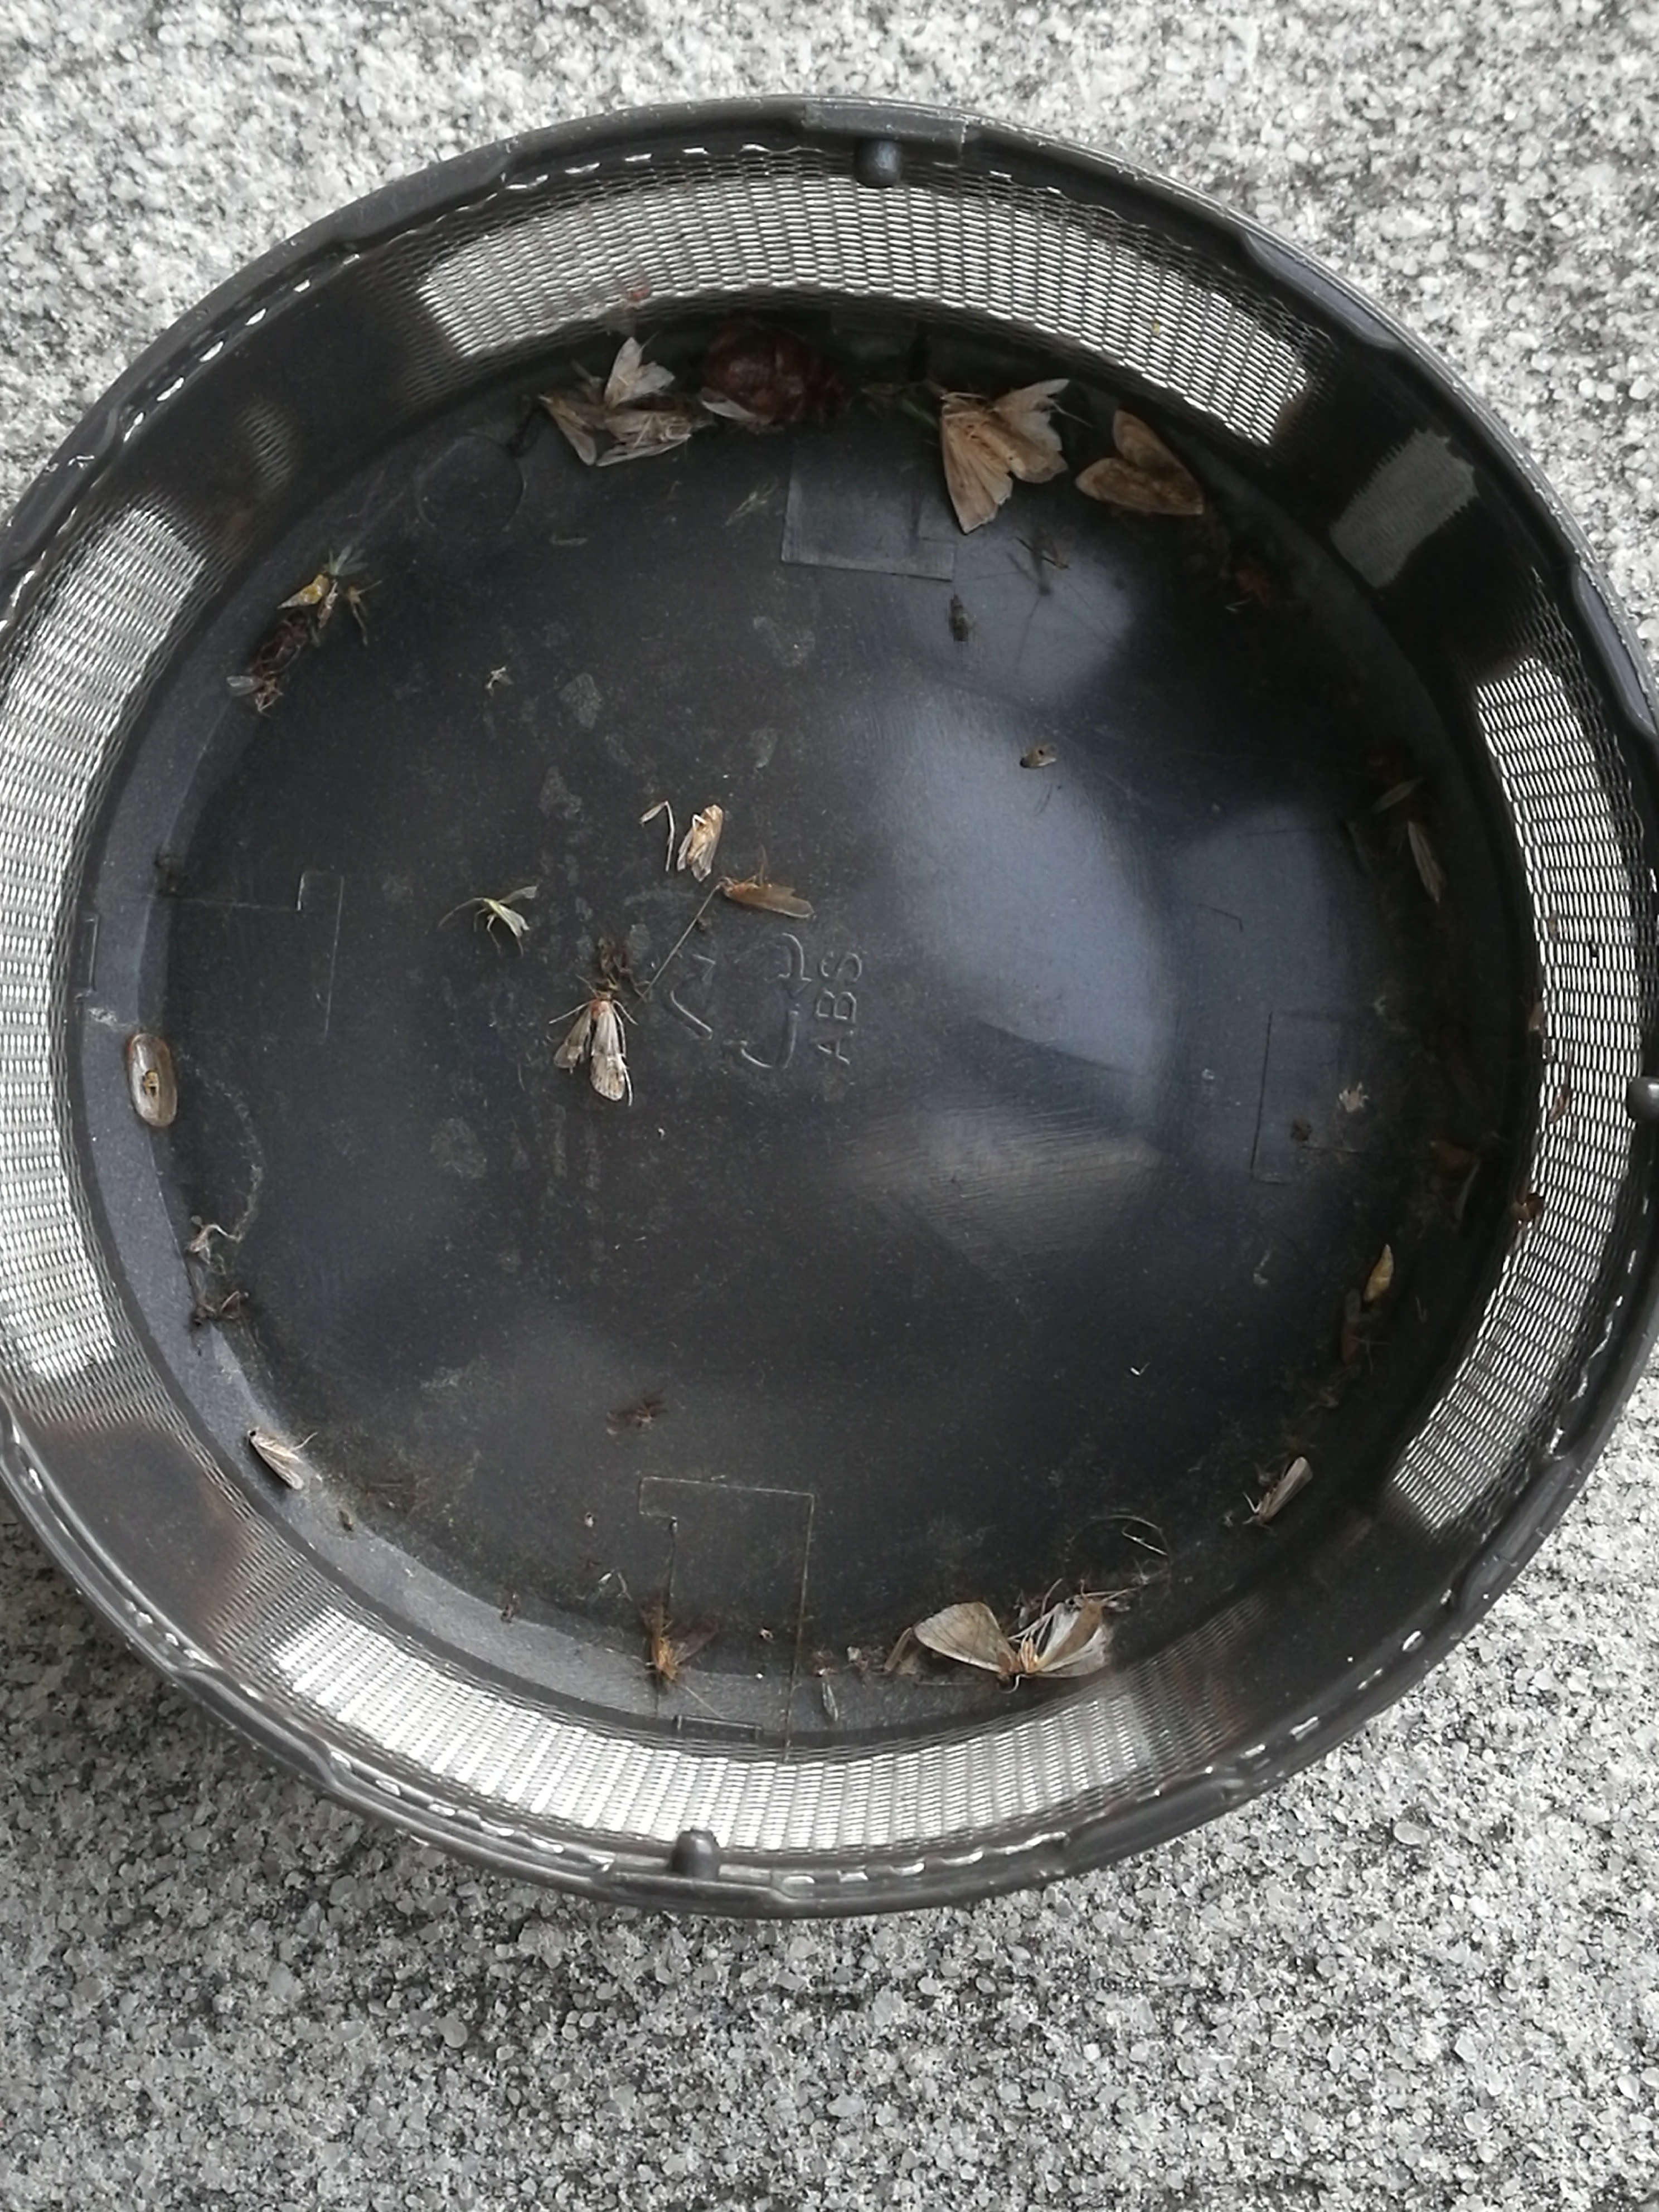beetle: (708, 327, 845, 425)
mosquito: (1251, 1458, 1314, 1526), (721, 878, 812, 918), (246, 1426, 301, 1489), (1406, 820, 1446, 900), (481, 897, 528, 939), (1342, 1287, 1359, 1366)
moth: (939, 394, 1066, 531), (913, 1602, 1114, 1681), (1075, 409, 1202, 516), (556, 1000, 626, 1101), (993, 378, 1068, 449), (537, 395, 612, 465), (596, 411, 692, 465), (603, 338, 674, 408), (680, 805, 723, 881)
